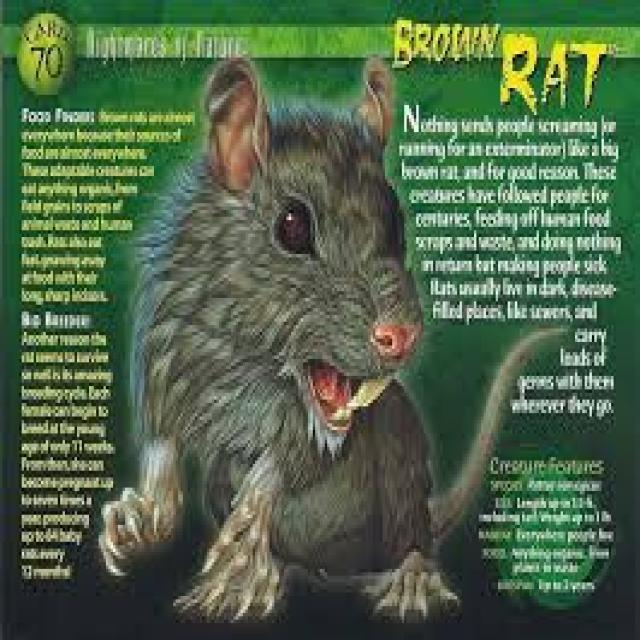Rat: (134, 81, 406, 534)
